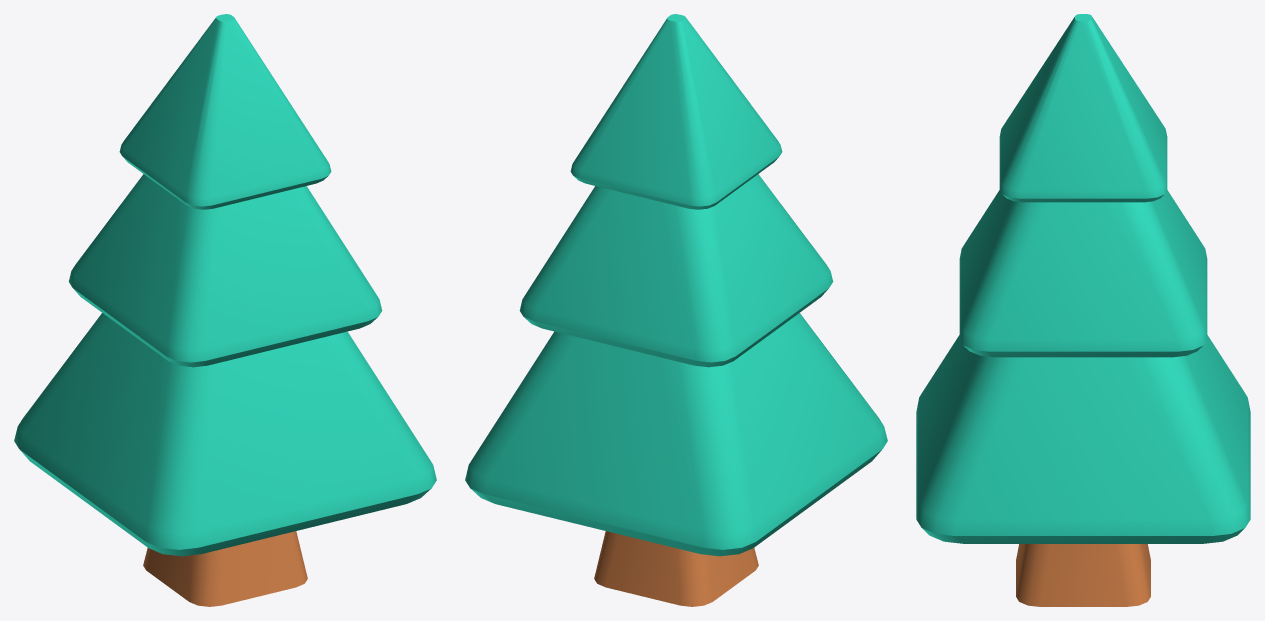
The model's file is Tree004.fbx.
3 renders of one model, left to right at view 1: azimuth 30°, elevation 25°; view 2: azimuth 150°, elevation 25°; view 3: azimuth 270°, elevation 25°, orthographic.
Visible parts, largest first — view 1: Tree004; view 2: Tree004; view 3: Tree004.
Part boxes in pixels (x1=…): Tree004: x1=14, y1=14, x2=436, y2=606; Tree004: x1=465, y1=14, x2=887, y2=606; Tree004: x1=916, y1=14, x2=1250, y2=606.
Size of the model in its own units: 320 by 592 by 320.
